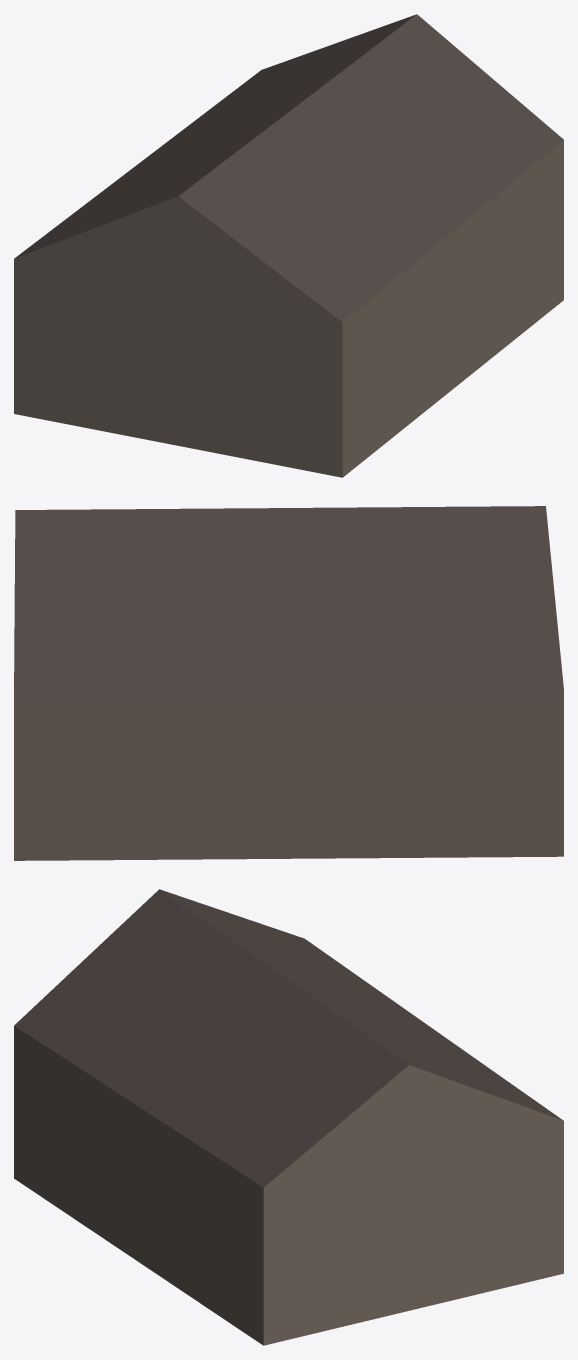
3 renders of one model, top to bottom at view 1: azimuth 30°, elevation 25°; view 2: azimuth 150°, elevation 25°; view 3: azimuth 270°, elevation 25°, orthographic. The views are drawn at different scales.
Parts seen in each view (by area): view 1: HP-w1512359813; view 2: HP-w1512359813; view 3: HP-w1512359813.
Part boxes in pixels (x1=…): HP-w1512359813: x1=14, y1=14, x2=563, y2=477; HP-w1512359813: x1=14, y1=506, x2=563, y2=860; HP-w1512359813: x1=14, y1=889, x2=563, y2=1345.
Bounding box in the file's own units: 21.41 × 9.65 × 19.57.
